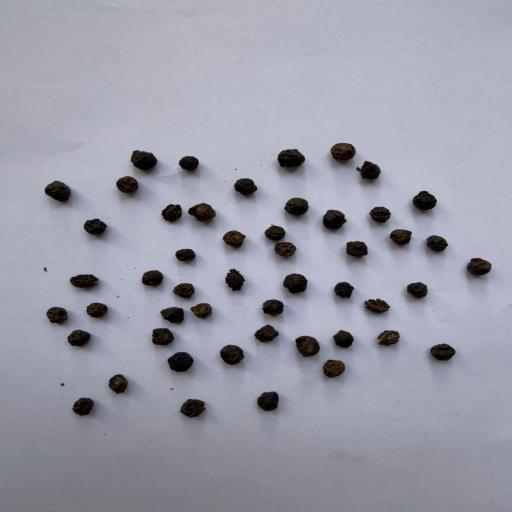Black_pepper: (37, 182, 84, 206), (174, 395, 216, 421), (126, 145, 164, 173), (427, 336, 462, 366), (424, 232, 462, 259), (273, 192, 310, 218), (252, 387, 287, 414), (100, 370, 136, 396), (271, 150, 312, 172), (414, 184, 444, 214), (318, 205, 349, 234), (162, 352, 199, 376), (74, 216, 114, 238), (228, 176, 266, 199), (170, 153, 202, 180), (280, 273, 314, 298), (136, 266, 166, 294), (108, 174, 146, 196), (148, 324, 182, 348), (294, 330, 320, 361), (218, 341, 250, 366), (321, 353, 348, 382), (188, 202, 223, 224), (330, 277, 362, 301), (71, 395, 101, 420), (250, 322, 284, 344), (220, 228, 250, 252), (402, 278, 434, 300), (346, 234, 374, 259), (464, 255, 493, 279), (65, 329, 99, 349), (360, 157, 386, 183), (39, 305, 72, 325), (156, 306, 190, 325), (366, 202, 395, 224), (274, 240, 303, 262), (190, 300, 220, 321), (82, 300, 112, 321), (262, 297, 289, 320), (328, 140, 355, 162), (172, 246, 197, 267), (330, 328, 356, 348), (172, 280, 199, 298), (266, 220, 290, 240), (389, 227, 414, 246)
papaya_seed: (371, 324, 416, 347), (219, 265, 250, 294), (66, 271, 106, 291), (156, 199, 185, 224), (364, 296, 396, 318)
